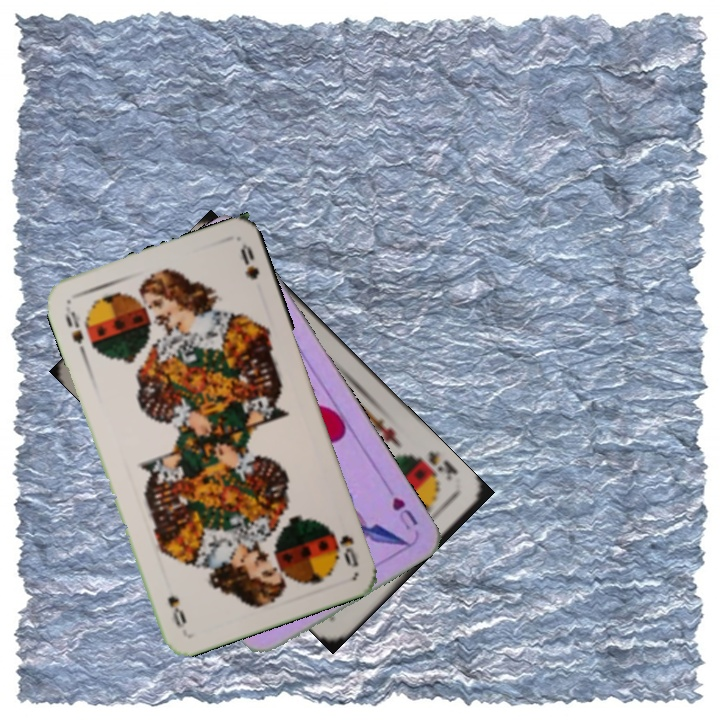HU: (388, 493, 420, 533)
SK: (424, 447, 461, 484)
SO: (61, 302, 89, 359), (327, 526, 361, 570)
